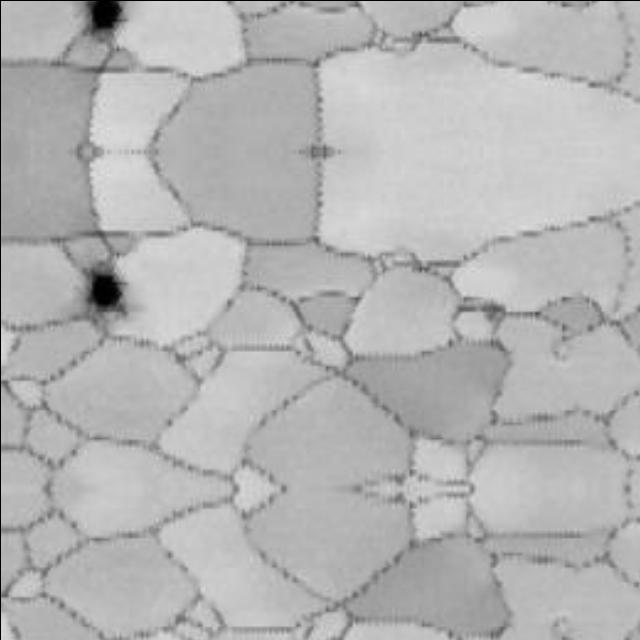good_void: (79, 263, 132, 326), (79, 0, 127, 40)
